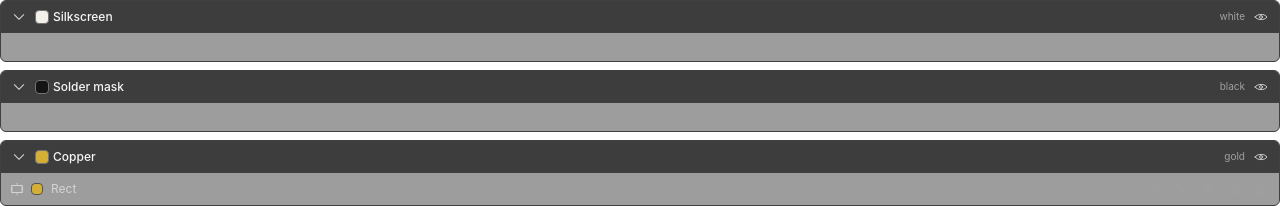
LayerList rename › Escape cancels without committing
Double-click the text "Rect": (64, 188) [51, 181, 76, 196]
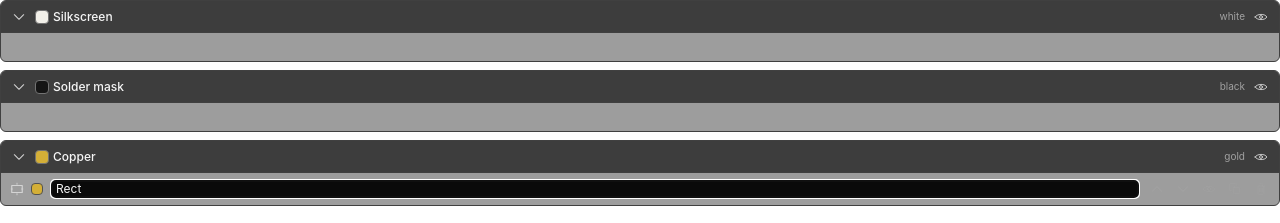
Replace the text in the field showing "Rect" with "discarded": (595, 189) [51, 180, 1139, 198]
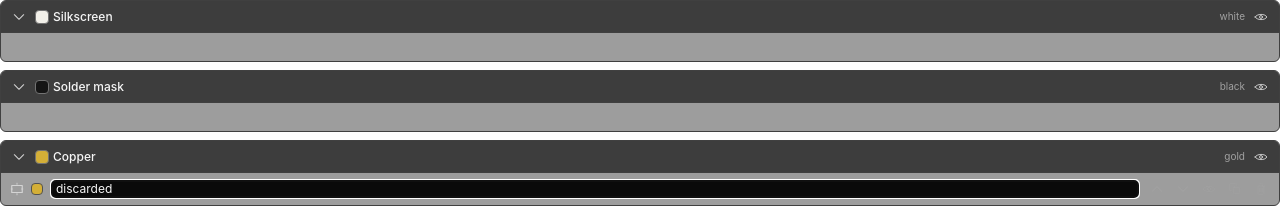
Press Escape in the field showing "Rect", box [51, 180, 1139, 198]
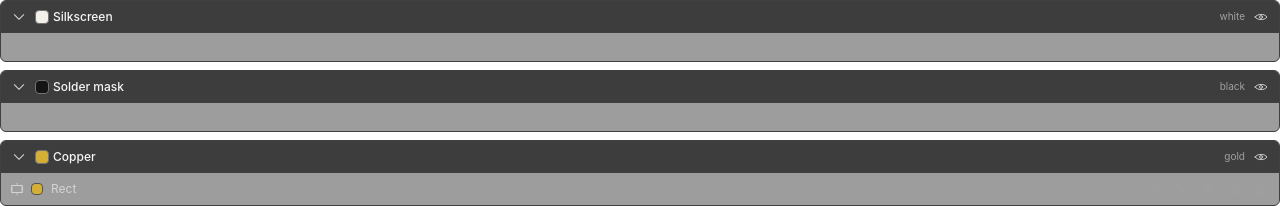
Expected: the text "Rect" is shown, [51, 181, 76, 196]
